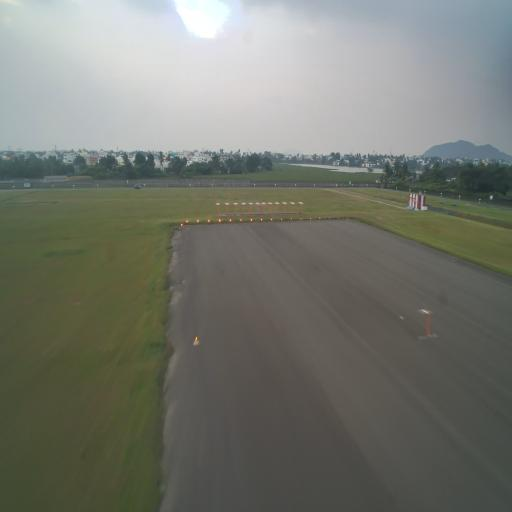on: (192, 334, 201, 349), (207, 218, 211, 224), (260, 217, 263, 223), (309, 216, 312, 221), (318, 216, 321, 221), (229, 218, 232, 222), (250, 217, 252, 223), (290, 218, 293, 222), (197, 219, 199, 224), (219, 218, 221, 223), (240, 218, 242, 223), (270, 217, 272, 222), (300, 216, 302, 221), (181, 223, 183, 227), (186, 219, 188, 223), (280, 218, 282, 222), (328, 216, 330, 220), (337, 216, 339, 220)
